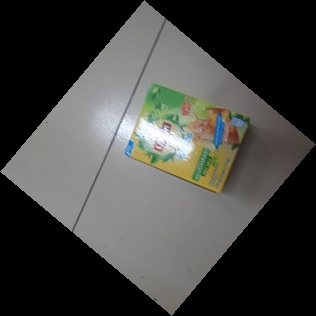LipTon: (123, 80, 250, 197)
